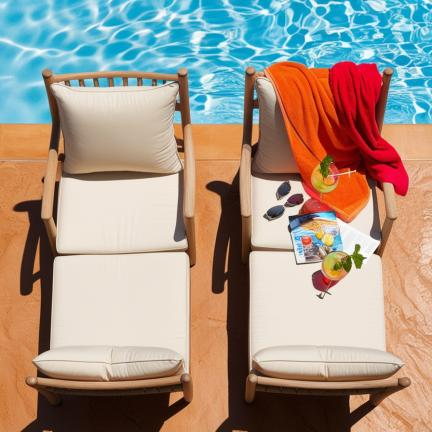empty chair: (25, 69, 196, 404)
occupied chair: (240, 62, 410, 405)
